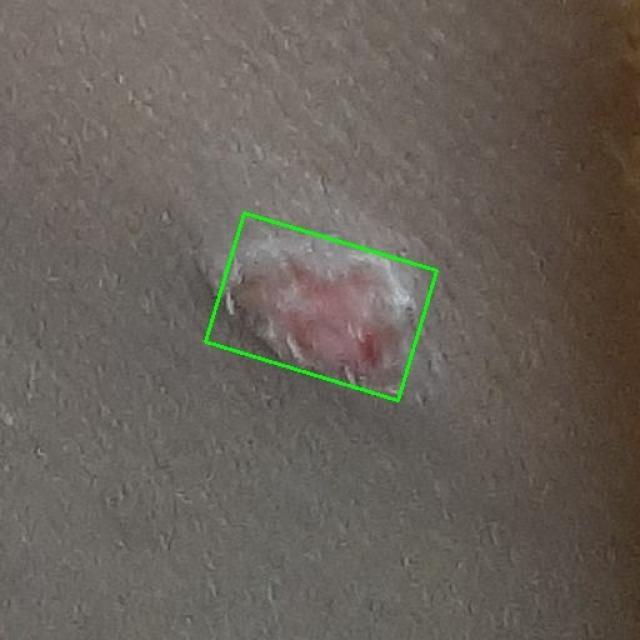Eczema: (206, 213, 437, 401)
